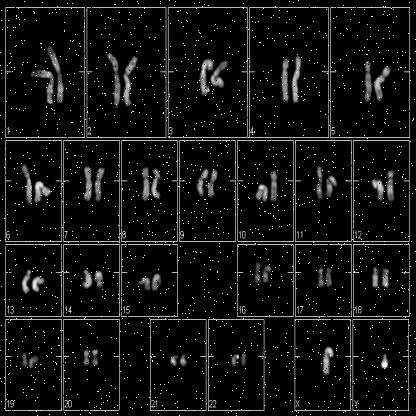1: (45, 45, 64, 105), (32, 67, 53, 106)
10: (270, 167, 278, 200), (257, 182, 268, 204)
11: (326, 172, 338, 200), (316, 166, 325, 199)
12: (386, 169, 396, 201), (372, 175, 384, 201)
13: (22, 265, 30, 294), (33, 274, 44, 294)
14: (80, 268, 92, 289), (93, 269, 104, 289)
15: (151, 272, 164, 292), (139, 275, 151, 292)
16: (254, 260, 262, 286), (264, 264, 271, 286)
17: (316, 266, 324, 286), (324, 266, 332, 286)
18: (372, 264, 379, 288), (382, 265, 388, 288)
19: (29, 352, 40, 370), (21, 351, 28, 370)
2: (124, 54, 138, 106), (108, 52, 119, 107)
20: (82, 348, 88, 366), (92, 348, 98, 366)
21: (170, 352, 177, 368), (180, 352, 186, 368)
22: (230, 351, 240, 370), (240, 350, 247, 368)
3: (211, 56, 229, 92), (200, 58, 214, 92)
4: (292, 54, 300, 104), (281, 56, 289, 105)
5: (376, 63, 390, 103), (364, 58, 373, 102)
6: (21, 162, 35, 206), (34, 178, 51, 202)
7: (81, 165, 91, 201), (94, 165, 104, 201)
8: (152, 166, 161, 203), (143, 164, 149, 202)
9: (196, 166, 209, 198), (208, 167, 218, 198)
X: (324, 345, 334, 377)
Y: (383, 350, 389, 370)
